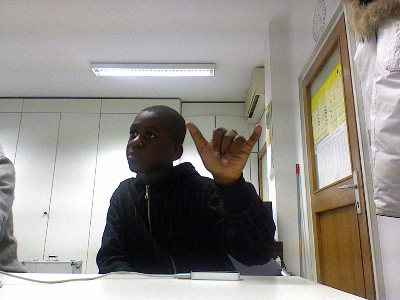六六六: (182, 118, 263, 183)
